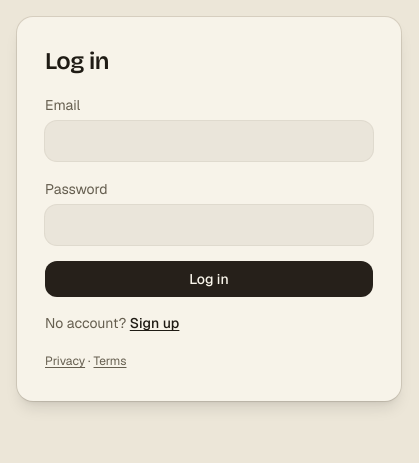
Test: LoginForm › reports a server error as a server problem
Type "ann@example.com" into the field labelled "Email".
click(209, 141); type("ann@example.com")  # box [45, 121, 373, 161]
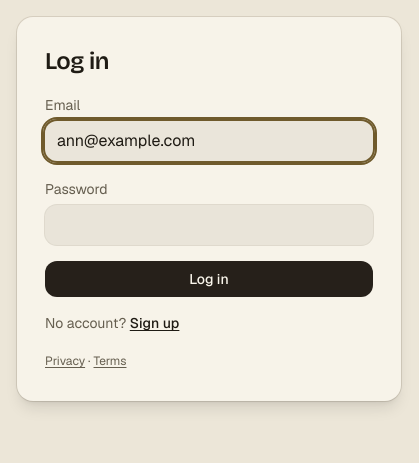
Type "correct-horse" into the password field labelled "Password".
click(209, 225); type("correct-horse")  # box [45, 205, 373, 245]
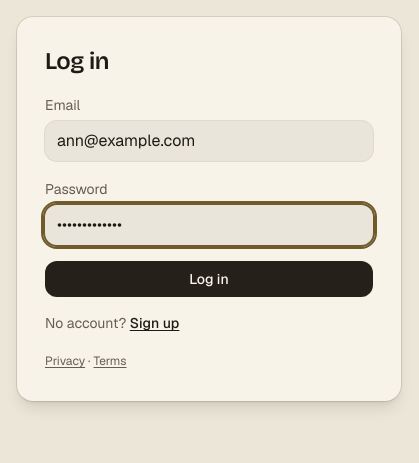
Click the button "Log in".
click(209, 279)  # box [45, 261, 373, 297]
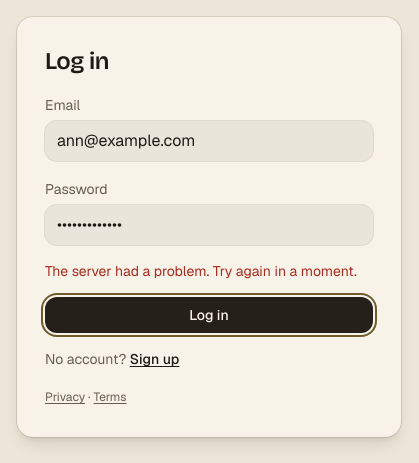
Check: the message shows "server had a problem", box [45, 262, 357, 280]
